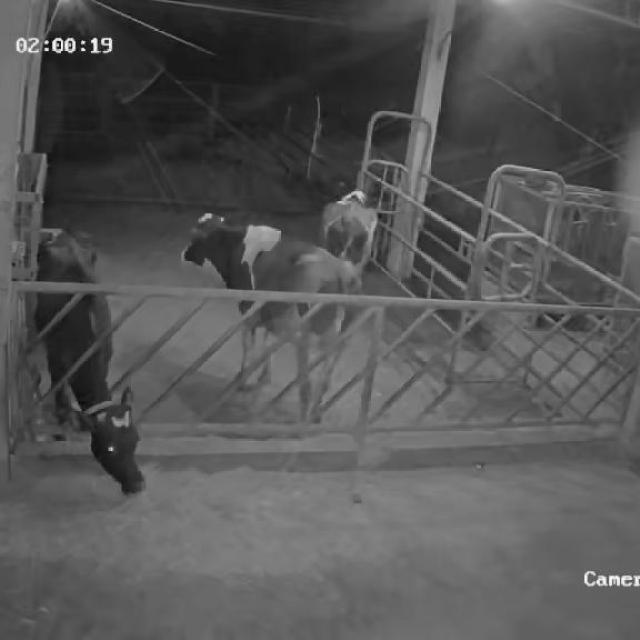feeding: (32, 225, 159, 506)
standing: (180, 198, 356, 430), (312, 183, 381, 269)
